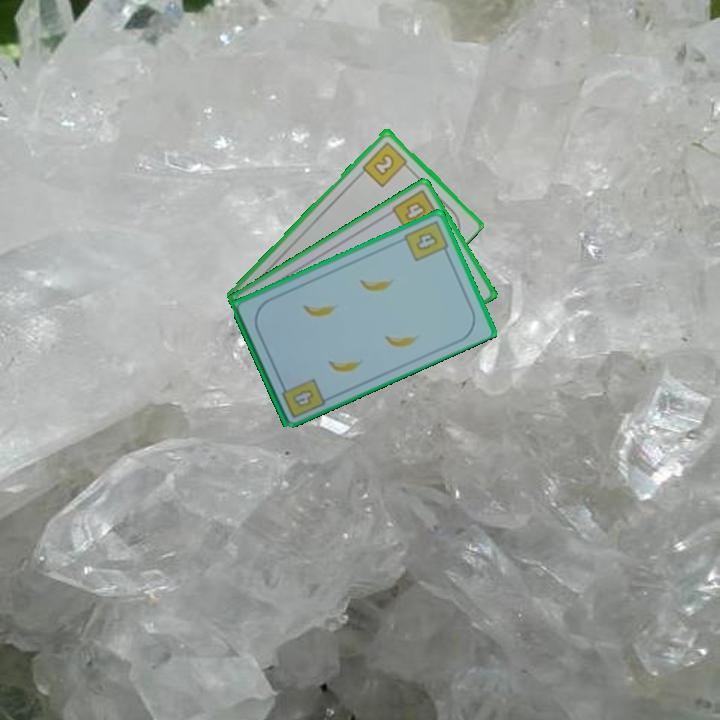2b: (359, 138, 413, 189)
4b: (388, 185, 442, 235), (400, 217, 452, 264), (277, 375, 328, 421)
